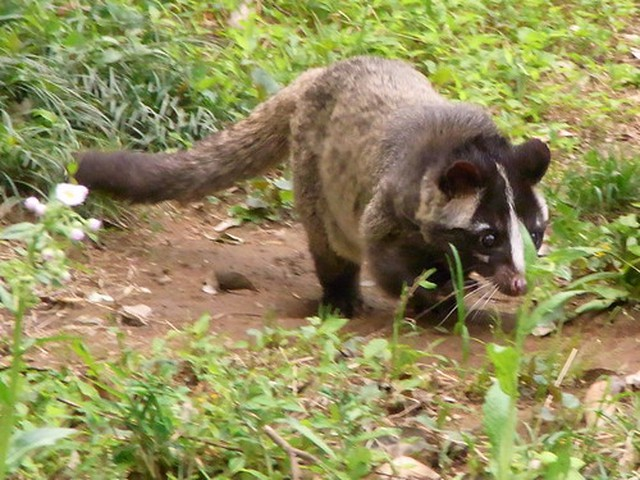civet: (71, 53, 556, 342)
